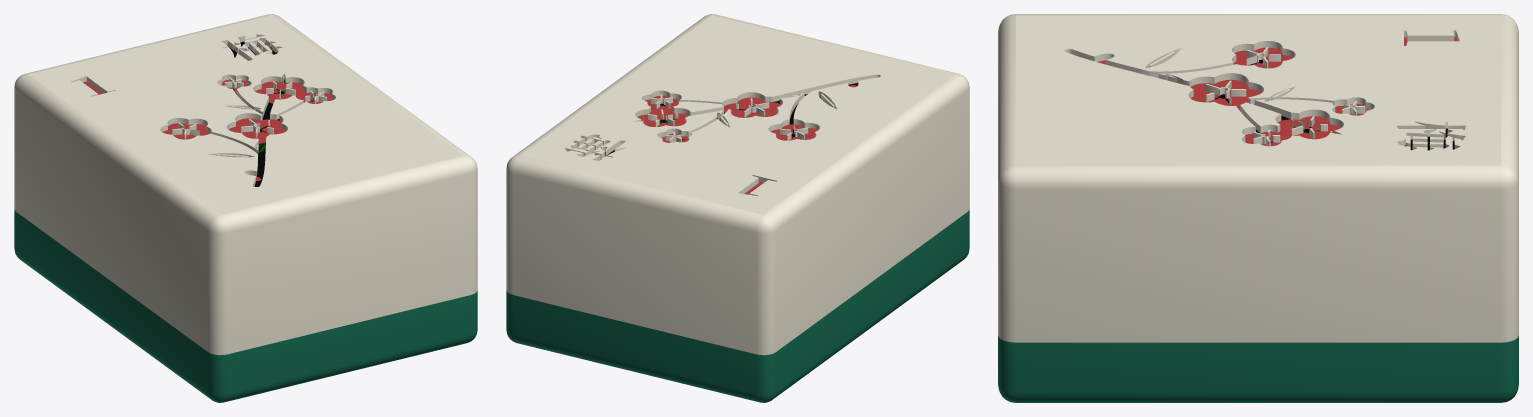
Rendered from Flower1_Plum.glb.
The picture shows the model from 3 angles, left to right: view 1: azimuth 30°, elevation 25°; view 2: azimuth 150°, elevation 25°; view 3: azimuth 270°, elevation 25°; orthographic projection. The views are drawn at different scales.
Parts seen in each view (by area): view 1: Flower1_Plum_body, Flower1_Plum_inset; view 2: Flower1_Plum_body, Flower1_Plum_inset; view 3: Flower1_Plum_body, Flower1_Plum_inset.
Part boxes in pixels (<box>): Flower1_Plum_body: <box>14,14,477,402</box>; Flower1_Plum_inset: <box>83,41,332,186</box>; Flower1_Plum_body: <box>506,14,969,402</box>; Flower1_Plum_inset: <box>605,83,857,194</box>; Flower1_Plum_body: <box>998,14,1518,402</box>; Flower1_Plum_inset: <box>1097,37,1457,150</box>.
Bounding box in the file's own units: 0.024 × 0.016 × 0.032.
